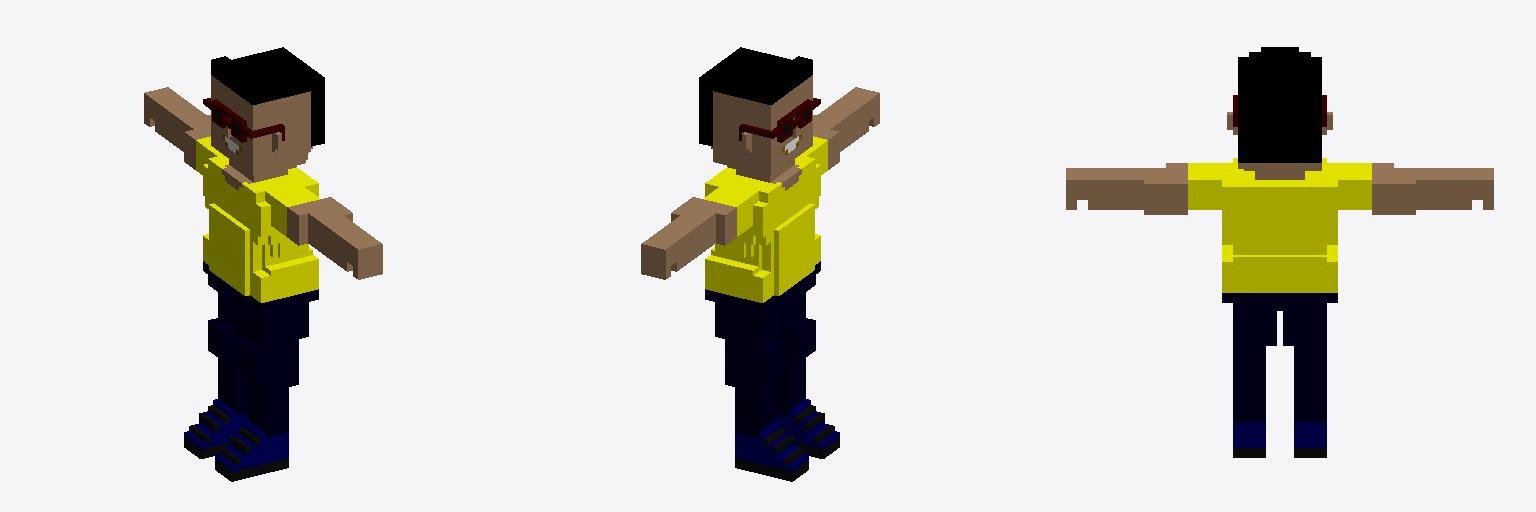
The picture shows the model from 3 angles: view 1: azimuth 30°, elevation 25°; view 2: azimuth 150°, elevation 25°; view 3: azimuth 270°, elevation 25°; orthographic projection.
Parts seen in each view (by area): view 1: object 1; view 2: object 1; view 3: object 1.
Part boxes in pixels (x1,y1,x2,y2): object 1: (144,47,382,481); object 1: (641,47,879,481); object 1: (1066,47,1493,457).
Size of the model in its own units: 2 by 7.8 by 7.7.
Materials: 1 (1 with a texture image).